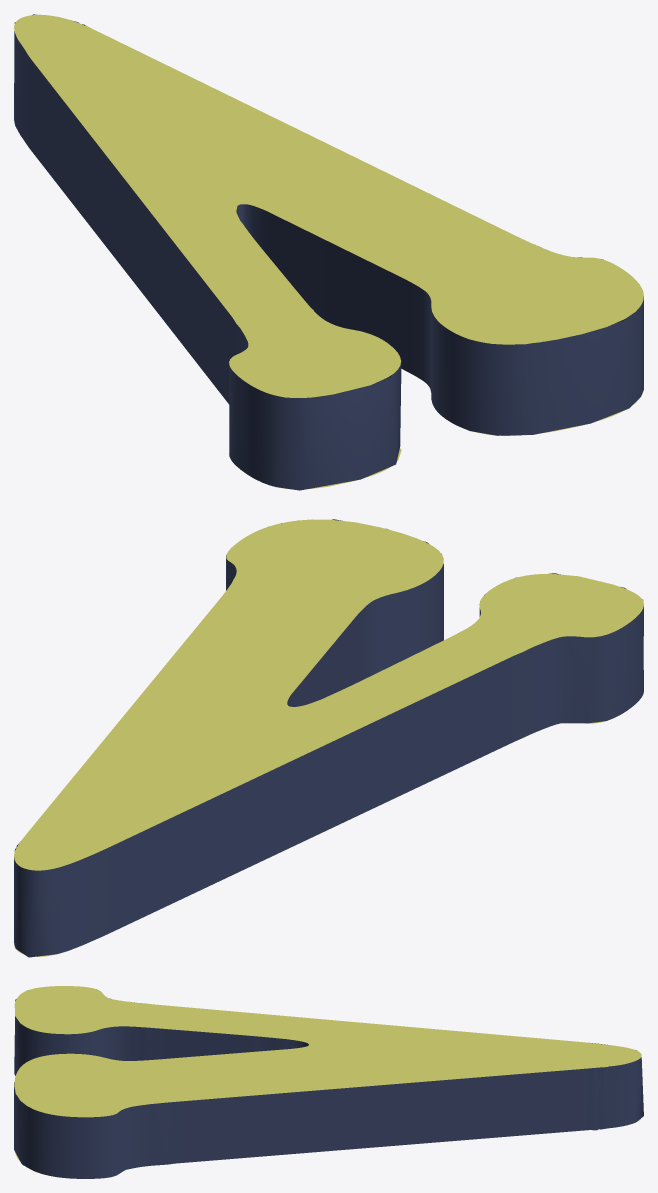
Rendered from v_boss.fbx.
The picture shows the model from 3 angles, top to bottom: view 1: azimuth 30°, elevation 25°; view 2: azimuth 150°, elevation 25°; view 3: azimuth 270°, elevation 25°; orthographic projection. The views are drawn at different scales.
Visible parts, largest first — view 1: V; view 2: V; view 3: V.
Part boxes in pixels (x1=…): V: x1=14, y1=14, x2=643, y2=490; V: x1=14, y1=519, x2=643, y2=957; V: x1=14, y1=986, x2=643, y2=1178.
Bounding box in the file's own units: 0.7297 × 0.1599 × 1.48.
